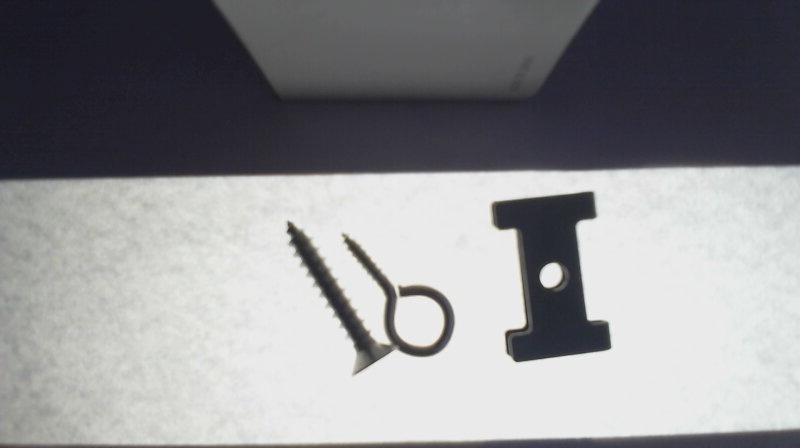O001: (335, 229, 455, 359)
O002: (488, 190, 614, 362)
S001: (283, 216, 397, 377)
